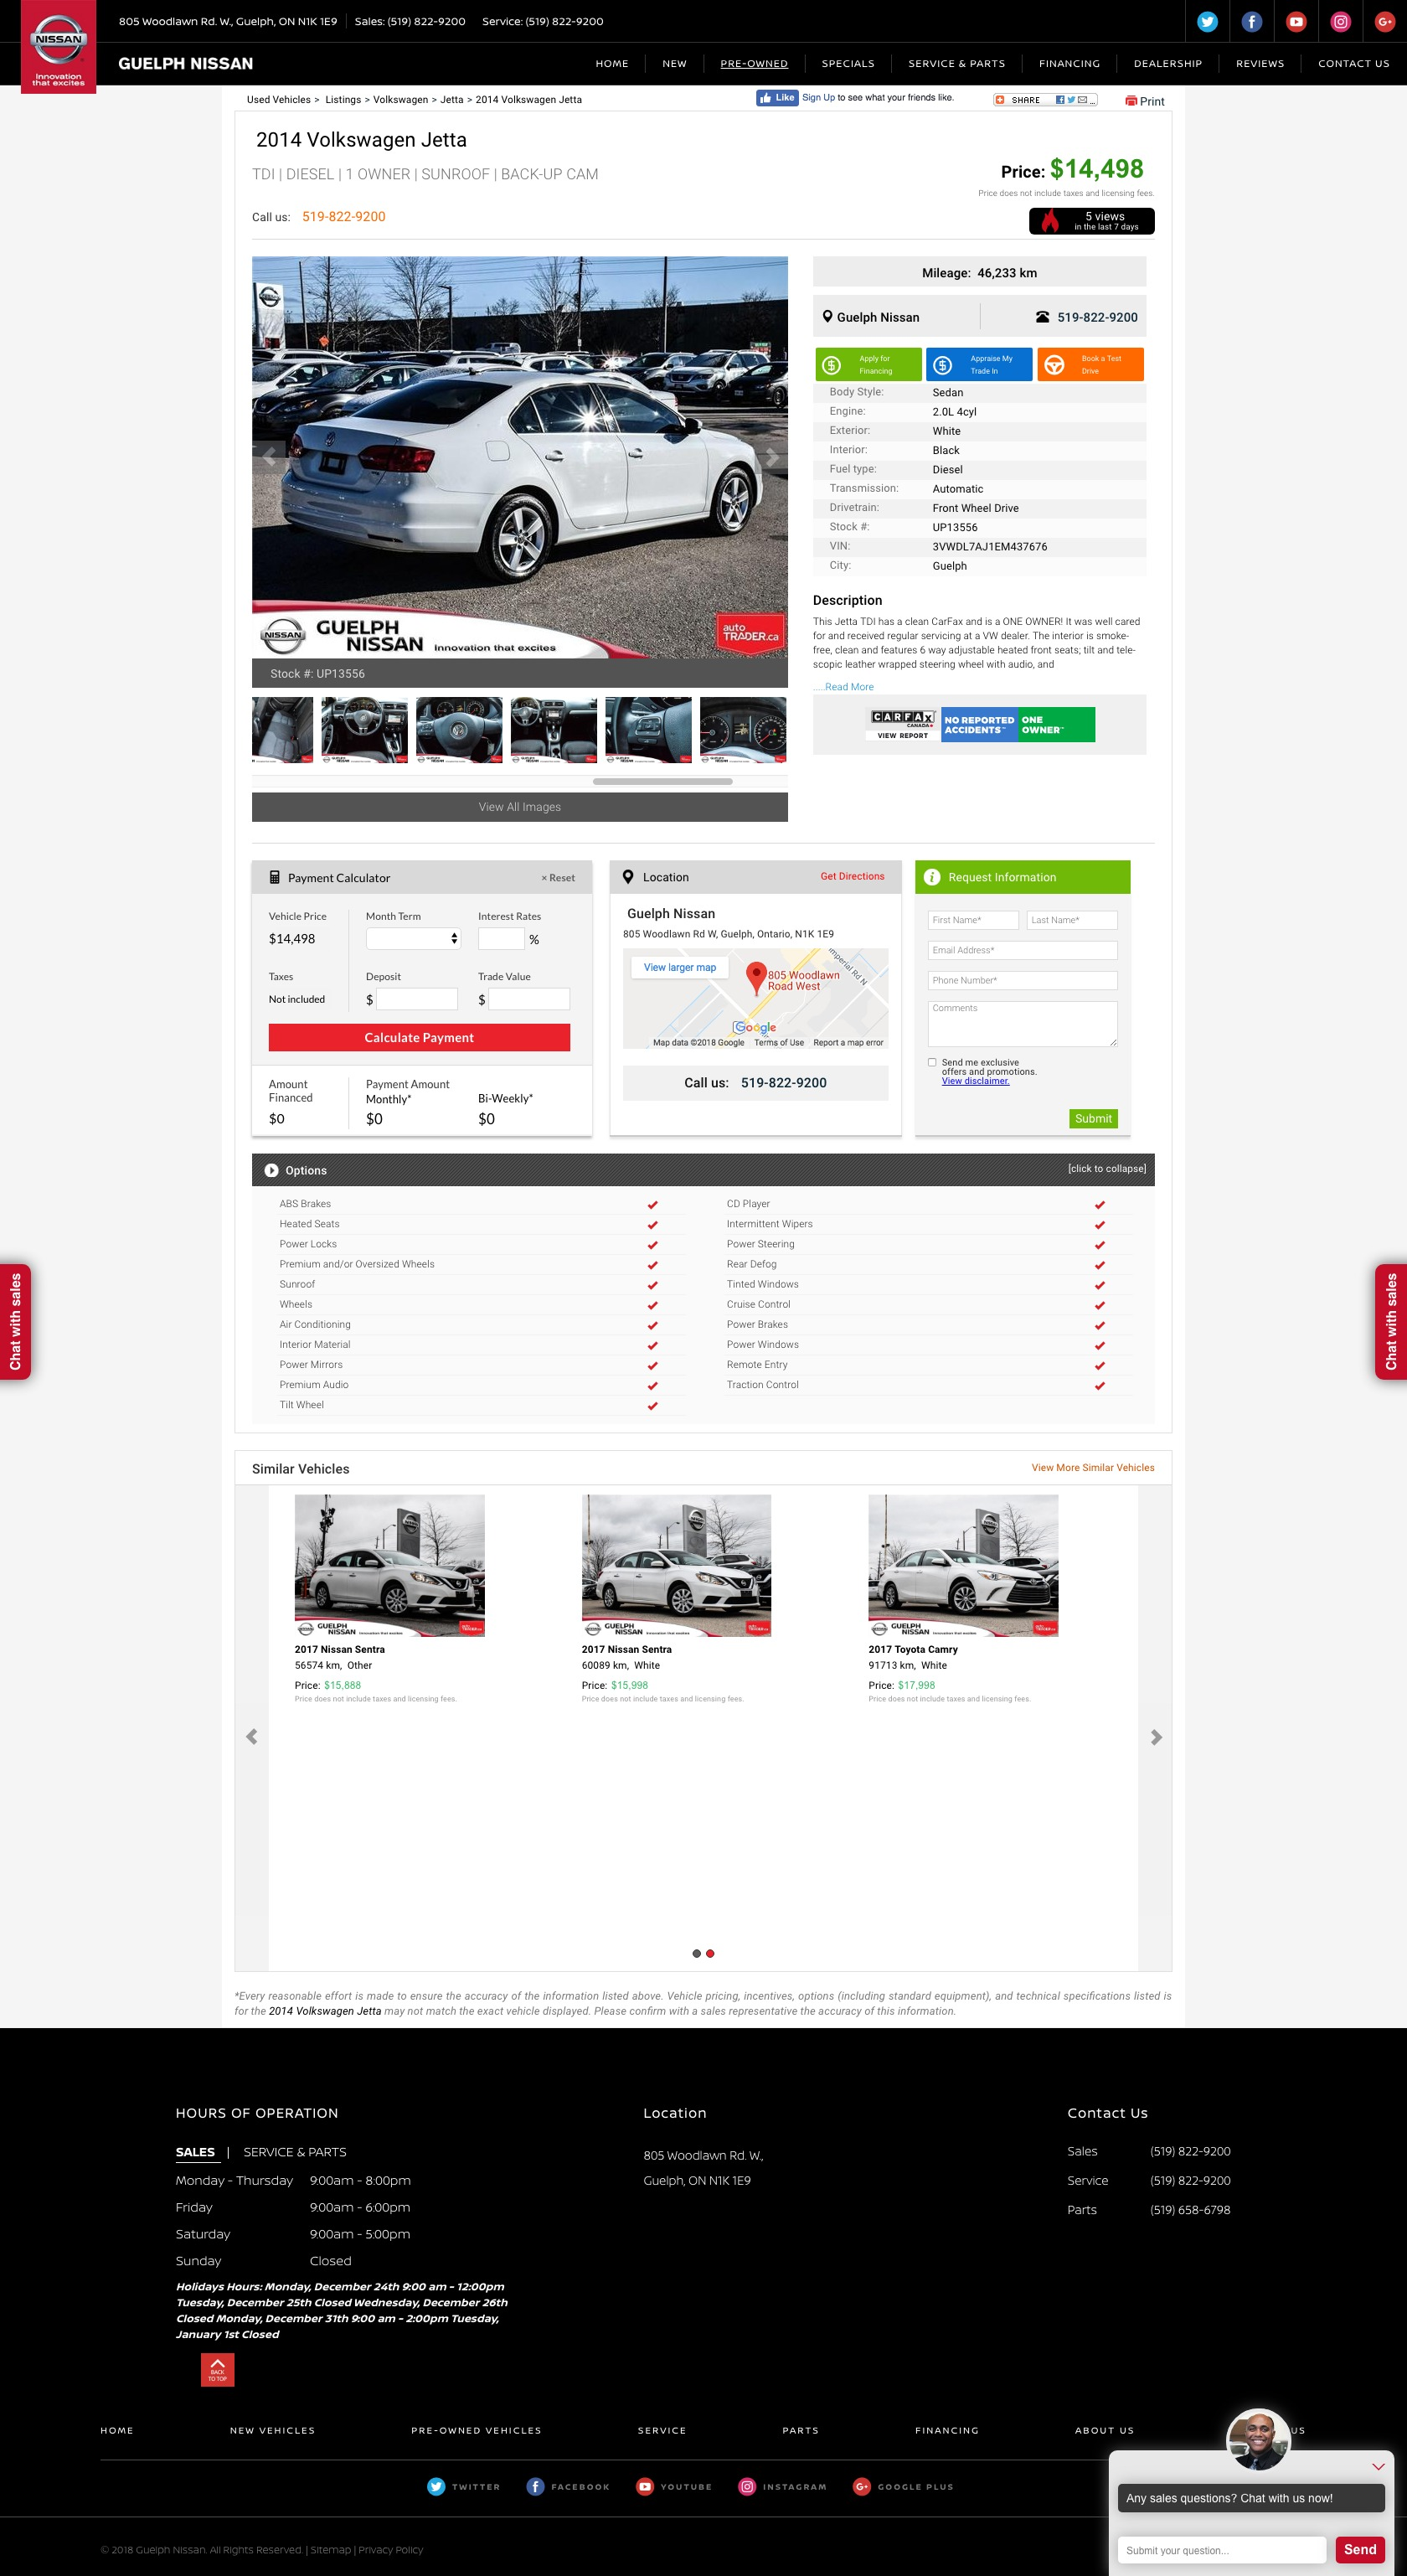car: (766, 449, 780, 468)
